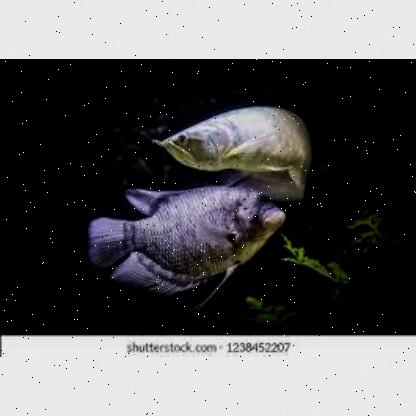gurame: (90, 185, 286, 299)
